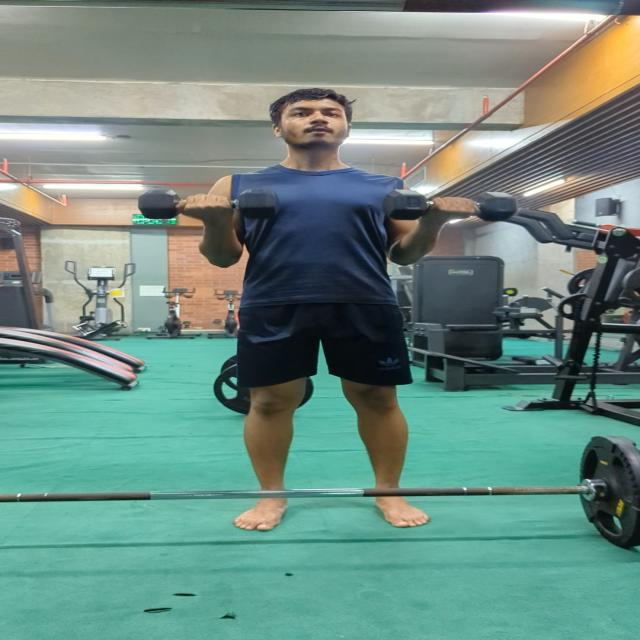Normal_DumbbellBicepCurls: (128, 82, 524, 535)
